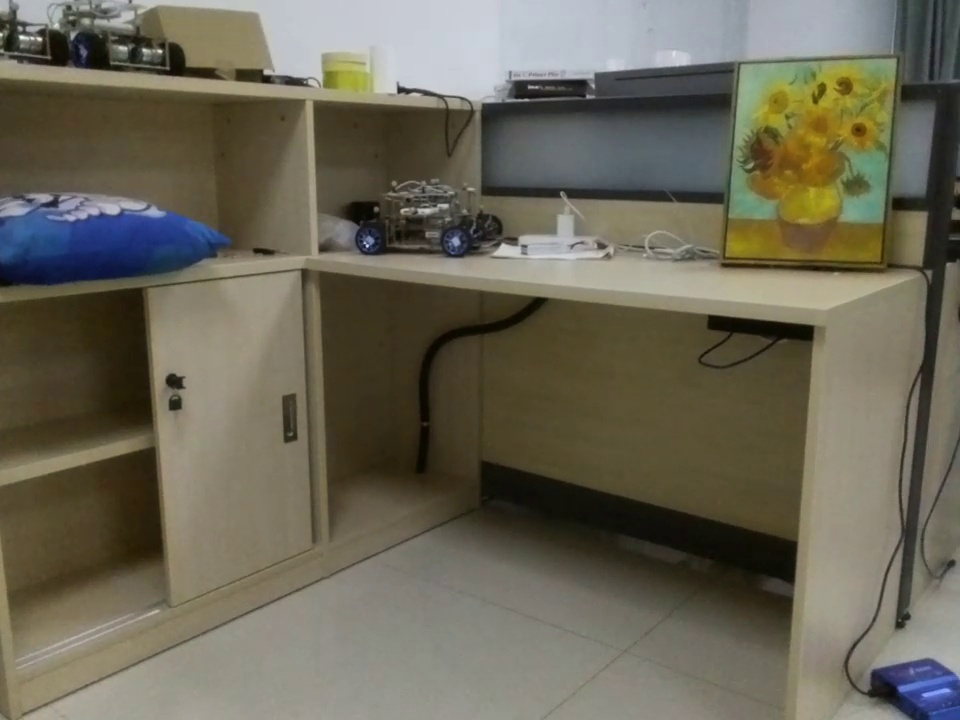painting: (726, 59, 902, 265)
